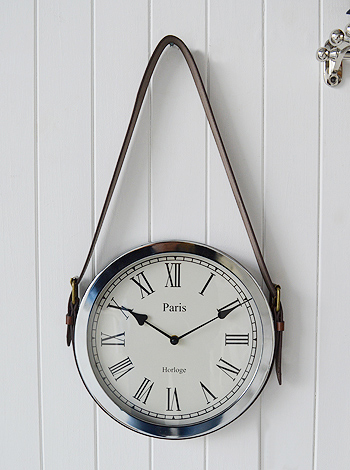clock: (88, 253, 258, 427)
